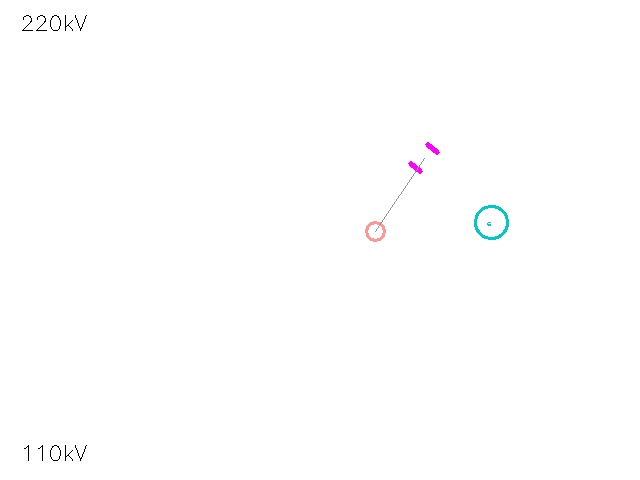capacitor: (403, 137, 445, 179)
generator: (475, 206, 507, 238)
voltage_transformer: (357, 213, 393, 249)
